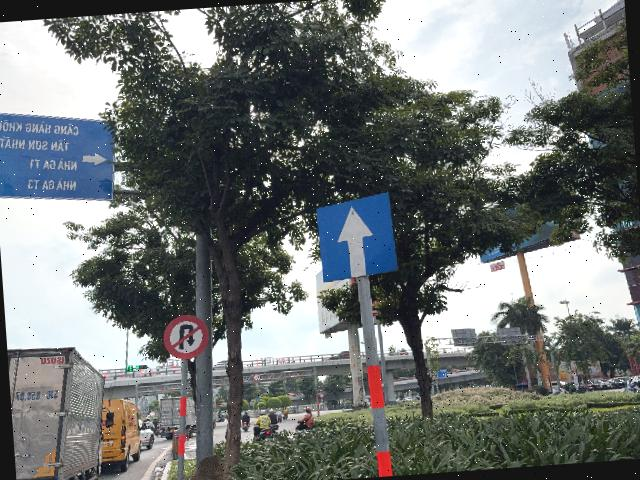cam-quay-dau-xe: (160, 312, 210, 360)
duong-mot-chieu: (315, 191, 399, 283)
